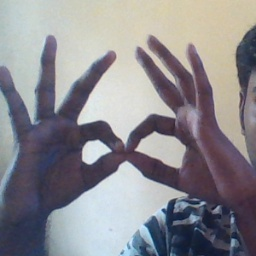B: (57, 96, 201, 191)
